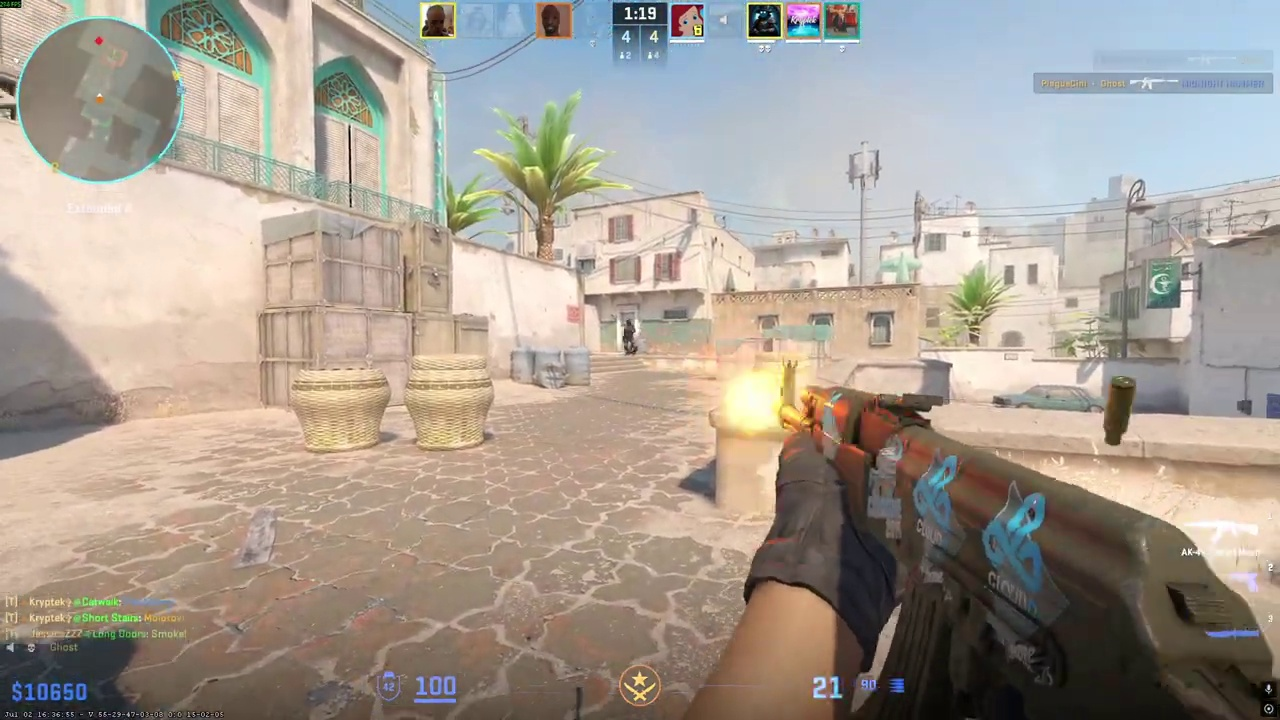CT: (622, 318, 636, 355)
